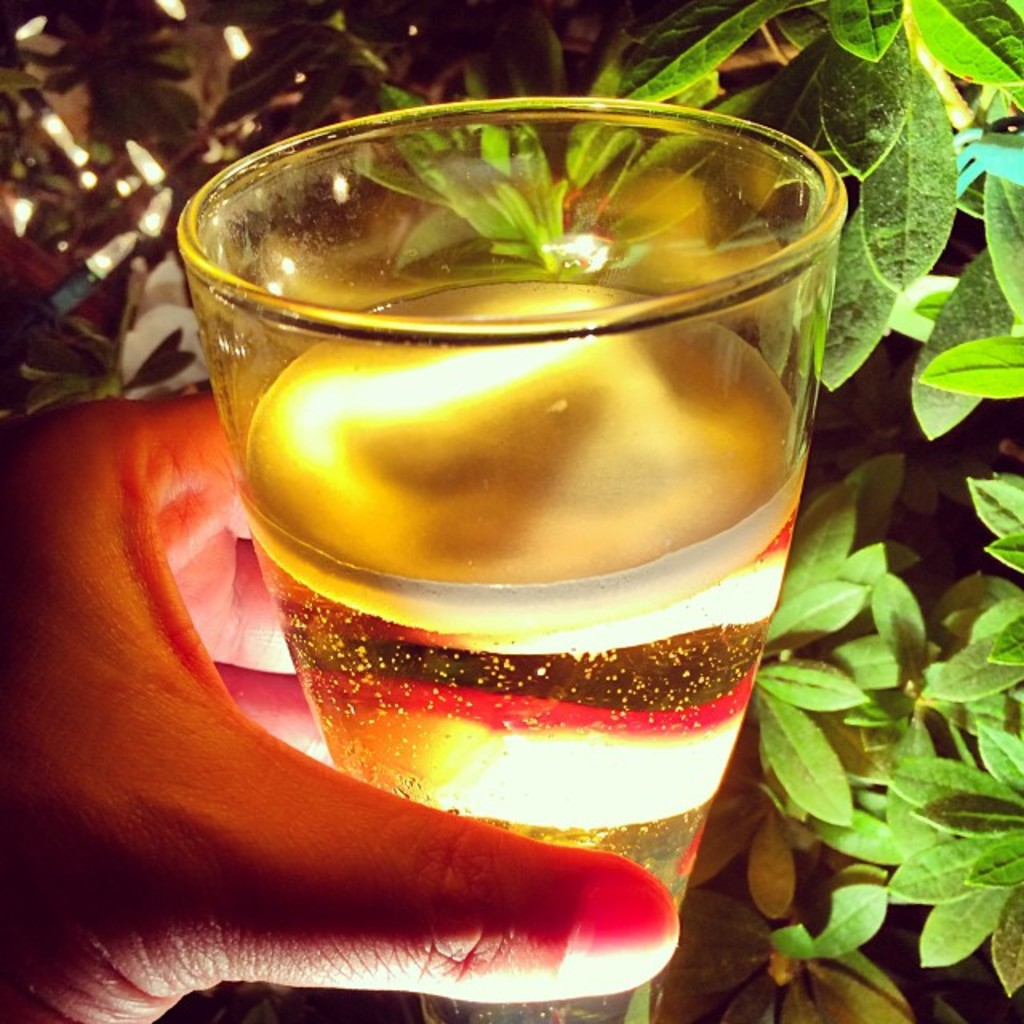Beer: (176, 95, 848, 1024)
